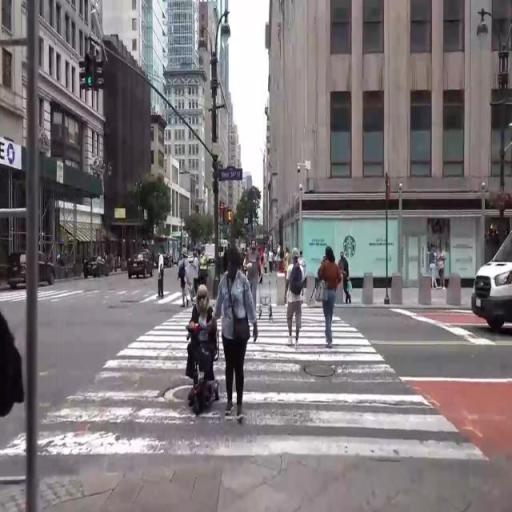person: (217, 251, 252, 426), (192, 284, 216, 398), (318, 248, 338, 356), (287, 251, 304, 356), (247, 237, 262, 311), (340, 252, 354, 305), (179, 247, 188, 308), (156, 248, 167, 297), (430, 247, 438, 292), (439, 246, 448, 286), (278, 242, 285, 272), (264, 246, 269, 275), (270, 248, 275, 274)
